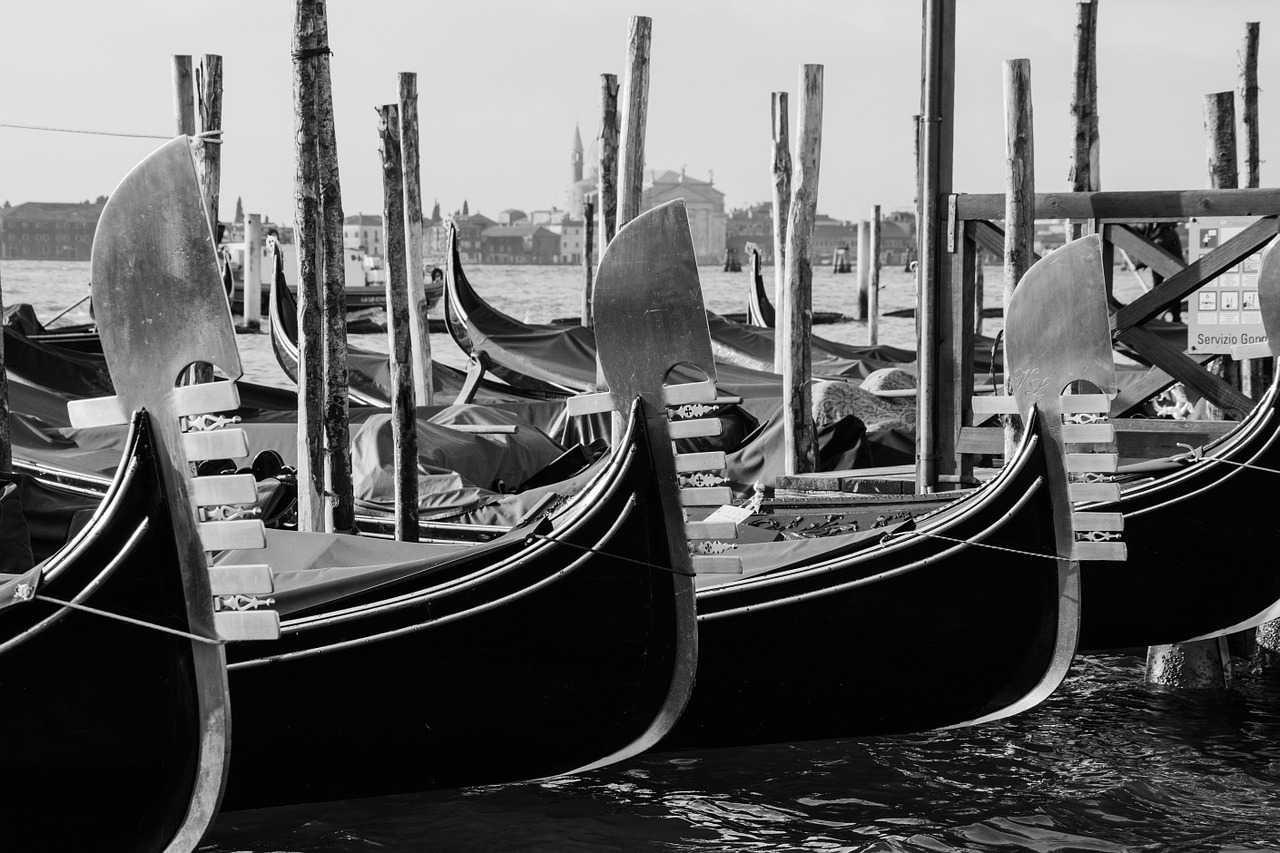kayak: (16, 121, 697, 798), (1002, 230, 1279, 651), (1, 398, 234, 843), (268, 244, 419, 396), (705, 308, 917, 388), (1, 298, 115, 402)
